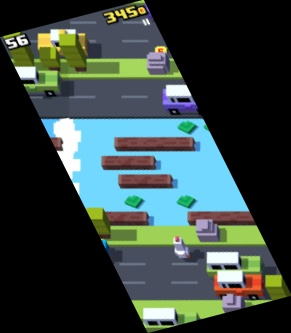car: (162, 84, 225, 116), (4, 66, 62, 95), (206, 252, 264, 280), (141, 308, 201, 333), (38, 29, 89, 58), (214, 271, 264, 300), (66, 238, 112, 265)
coin: (154, 46, 171, 57)
duck: (170, 236, 191, 261)
lilypad: (179, 120, 198, 135), (123, 195, 144, 208), (177, 196, 195, 208)
log: (114, 137, 195, 152), (187, 211, 262, 226), (100, 155, 155, 170), (80, 212, 148, 224), (117, 174, 172, 188), (15, 137, 64, 151)
rock: (192, 219, 222, 242), (145, 52, 168, 74), (222, 294, 244, 316)
tree: (3, 28, 35, 69), (58, 35, 86, 75), (78, 208, 110, 237), (263, 275, 290, 307), (39, 46, 59, 72)
water: (38, 118, 257, 224)
